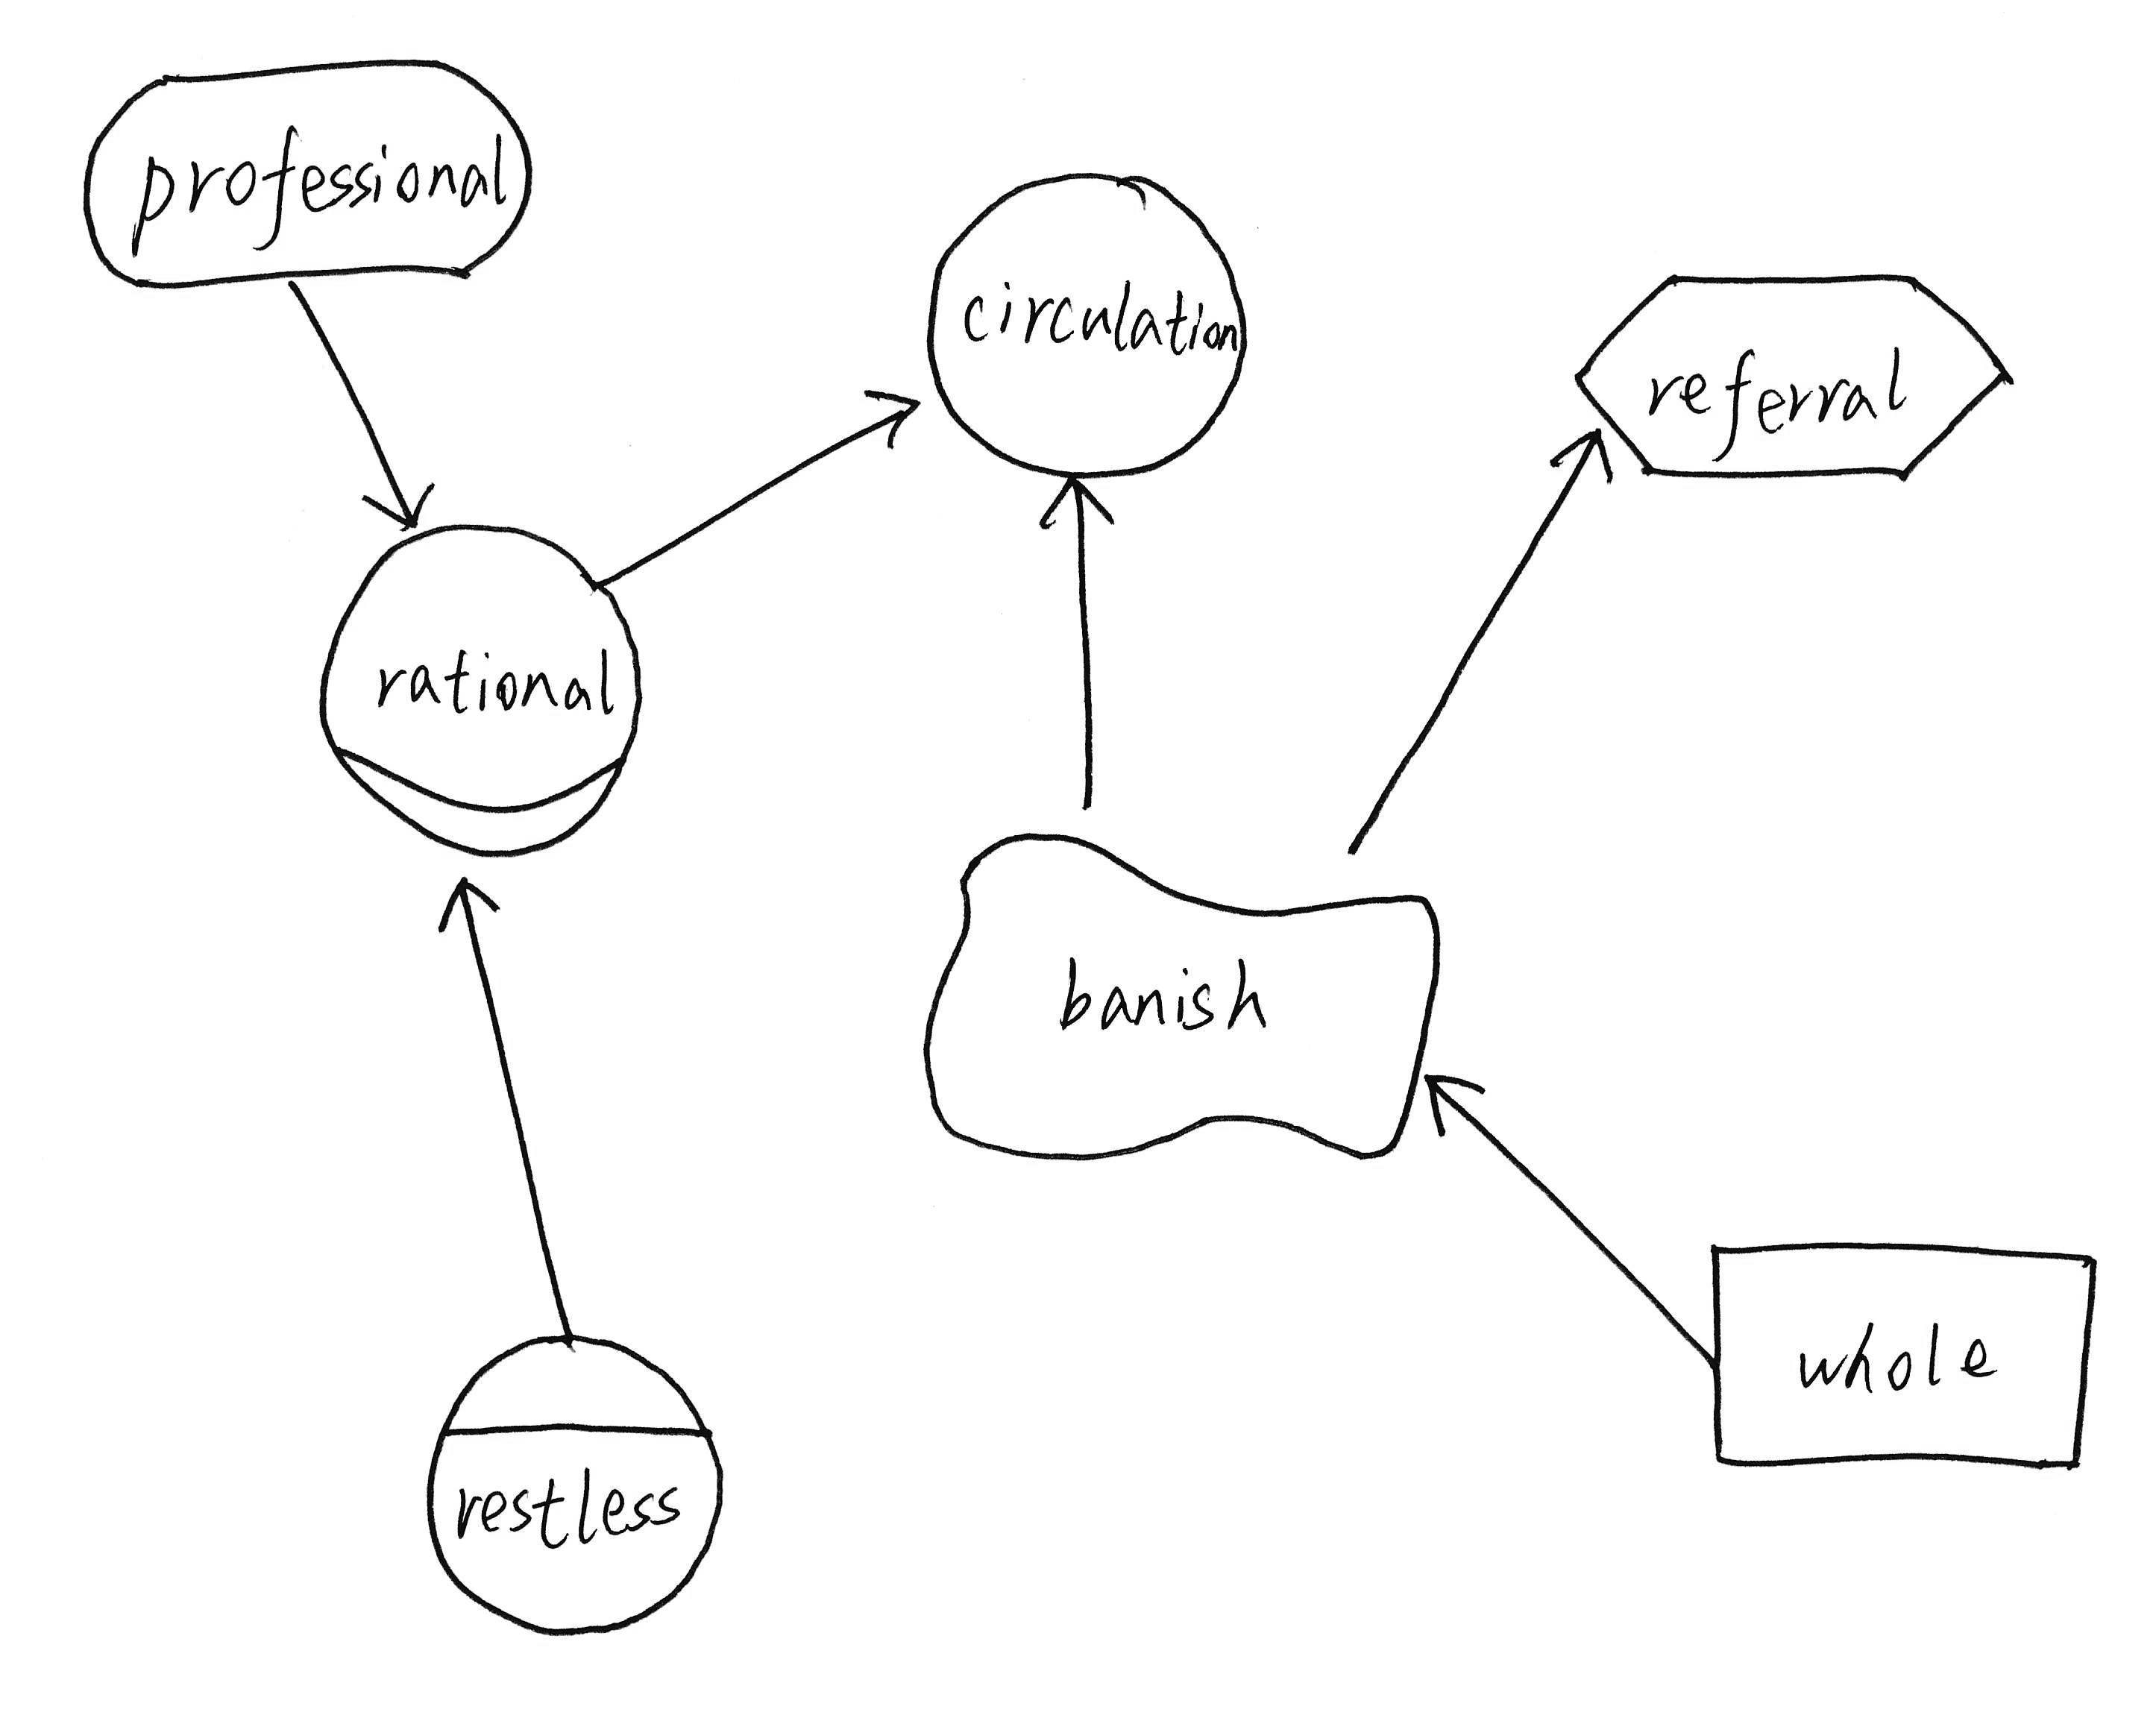actor: (908, 142, 1274, 489)
agent: (401, 1308, 748, 1648)
arrow: (847, 368, 938, 470), (1409, 1052, 1500, 1145), (349, 470, 452, 549), (1544, 417, 1632, 510), (1034, 463, 1124, 540), (433, 857, 510, 941)
goal: (65, 35, 557, 309)
quality: (896, 812, 1462, 1180)
resource: (1686, 1215, 2112, 1488)
role: (298, 500, 659, 878)
task: (1558, 247, 2030, 503)
